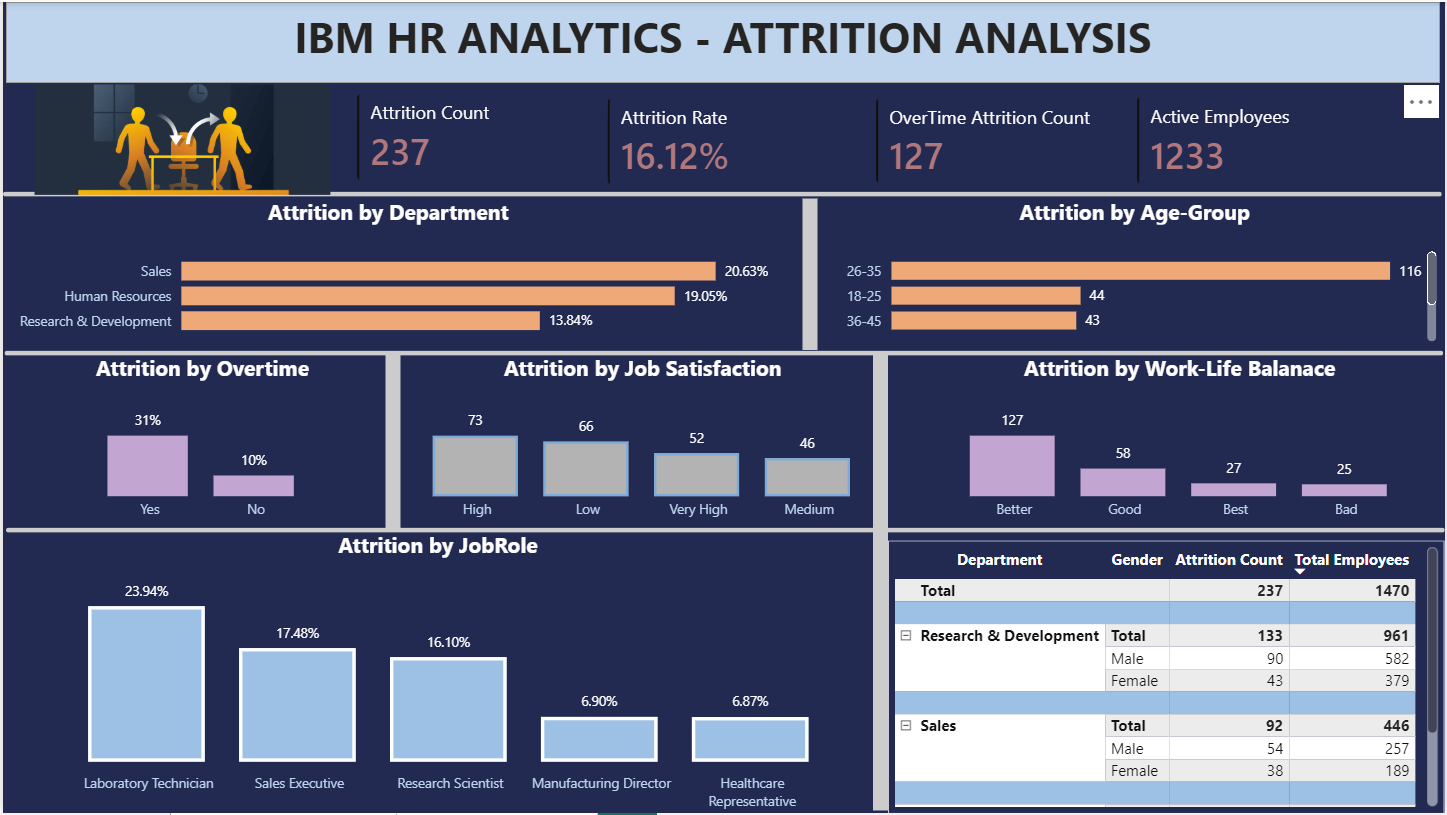

The page's visual inventory and layout, read from the dashboard file:
{"tool":"powerbi","page":{"name":"Attrition Analysis","canvas":[1280,720],"ordinal":2},"visuals":[{"type":"cardVisual","fields":{"Data":["IBM HR Attrition Dataset.Employees who left"]},"box":[302.3,69.2,234.4,101.2],"z":0},{"type":"textbox","box":[2.7,0,1272.8,71.3],"z":1000},{"type":"clusteredBarChart","title":"Attrition by Department","fields":{"Category":["IBM HR Attrition Dataset.Department"],"Y":["IBM HR Attrition Dataset.Attrition Rate"]},"box":[0,172.7,684.3,132.9],"z":2000},{"type":"clusteredColumnChart","title":"Attrition by JobRole","fields":{"Category":["IBM HR Attrition Dataset.JobRole"],"Y":["IBM HR Attrition Dataset.Attrition Rate"]},"box":[0,468.8,772.4,251.7],"z":3000},{"type":"cardVisual","fields":{"Data":["IBM HR Attrition Dataset.Attrition Rate"]},"box":[524.7,73.2,247.7,101.2],"z":4000},{"type":"cardVisual","fields":{"Data":["IBM HR Attrition Dataset.OverTime Attrition Count"]},"box":[763.1,73.2,234.7,100.8],"z":5000},{"type":"cardVisual","fields":{"Data":["IBM HR Attrition Dataset.Active Employees"]},"box":[994.3,71.3,281.2,102.3],"z":6000},{"type":"shape","box":[0,122.5,1277.4,96.1],"z":7000},{"type":"clusteredBarChart","title":"Attrition by Age-Group","fields":{"Category":["IBM HR Attrition Dataset.Age Group"],"Y":["IBM HR Attrition Dataset.Attrition Count"]},"box":[732.4,173.1,544.7,133.2],"z":8000},{"type":"shape","box":[1.3,263.7,1277.4,96.1],"z":9000},{"type":"shape","box":[2.7,420.8,1277.4,96.1],"z":10000},{"type":"shape","box":[709.8,175,13.3,134.5],"z":11000},{"type":"shape","box":[772.3,466.7,13.3,251.7],"z":12000},{"type":"clusteredColumnChart","title":"Attrition by Overtime","fields":{"Category":["IBM HR Attrition Dataset.OverTime"],"Y":["IBM HR Attrition Dataset.Attrition Rate"]},"box":[2.7,311.6,348.9,157.1],"z":13000},{"type":"columnChart","title":"Attrition by Job Satisfaction","fields":{"Category":["IBM HR Attrition Dataset.JobSatisfaction_Cleaned"],"Y":["IBM HR Attrition Dataset.Attrition Count"]},"box":[336.9,311.6,462.1,157.1],"z":14000},{"type":"shape","box":[339.6,311.6,13.3,157.1],"z":15000},{"type":"columnChart","title":"Attrition by Work-Life Balanace","fields":{"Category":["IBM HR Attrition Dataset.WorkLifeBalance_Cleaned"],"Y":["IBM HR Attrition Dataset.Attrition Count"]},"box":[814,312.2,462.1,157.1],"z":16000},{"type":"shape","box":[772.4,311.6,13.3,157.1],"z":17000},{"type":"image","box":[2.7,72.7,313.5,98.2],"z":18000},{"type":"pivotTable","fields":{"Rows":["IBM HR Attrition Dataset.Department","IBM HR Attrition Dataset.Gender"],"Values":["IBM HR Attrition Dataset.Attrition Count","Count(IBM HR Attrition Dataset.EmployeeNumber)"]},"box":[785.7,478.1,494.1,242.4],"z":19000},{"type":"actionButton","box":[0,0,115.9,69.2],"z":20000},{"type":"actionButton","box":[1193.2,0,86.6,70.6],"z":21000}]}

Visuals, with their boxes in screenshot pixels (x1, y1, x2, y2), scaled from the page's 1280x720 canvas onto the 1447x815 screenshot:
cardVisual - IBM HR Attrition Dataset.Employees who left: crop(342, 78, 607, 193)
textbox: crop(3, 0, 1442, 81)
"Attrition by Department" clusteredBarChart: crop(0, 195, 774, 346)
"Attrition by JobRole" clusteredColumnChart: crop(0, 531, 873, 814)
cardVisual - IBM HR Attrition Dataset.Attrition Rate: crop(593, 83, 873, 197)
cardVisual - IBM HR Attrition Dataset.OverTime Attrition Count: crop(863, 83, 1128, 197)
cardVisual - IBM HR Attrition Dataset.Active Employees: crop(1124, 81, 1442, 197)
shape: crop(0, 139, 1444, 247)
"Attrition by Age-Group" clusteredBarChart: crop(828, 196, 1444, 347)
shape: crop(1, 298, 1446, 407)
shape: crop(3, 476, 1446, 585)
shape: crop(802, 198, 817, 350)
shape: crop(873, 528, 888, 813)
"Attrition by Overtime" clusteredColumnChart: crop(3, 353, 397, 531)
"Attrition by Job Satisfaction" columnChart: crop(381, 353, 903, 531)
shape: crop(384, 353, 399, 531)
"Attrition by Work-Life Balanace" columnChart: crop(920, 353, 1443, 531)
shape: crop(873, 353, 888, 531)
image: crop(3, 82, 357, 193)
pivotTable - IBM HR Attrition Dataset.Department x IBM HR Attrition Dataset.Gender: crop(888, 541, 1446, 814)
actionButton: crop(0, 0, 131, 78)
actionButton: crop(1349, 0, 1446, 80)
